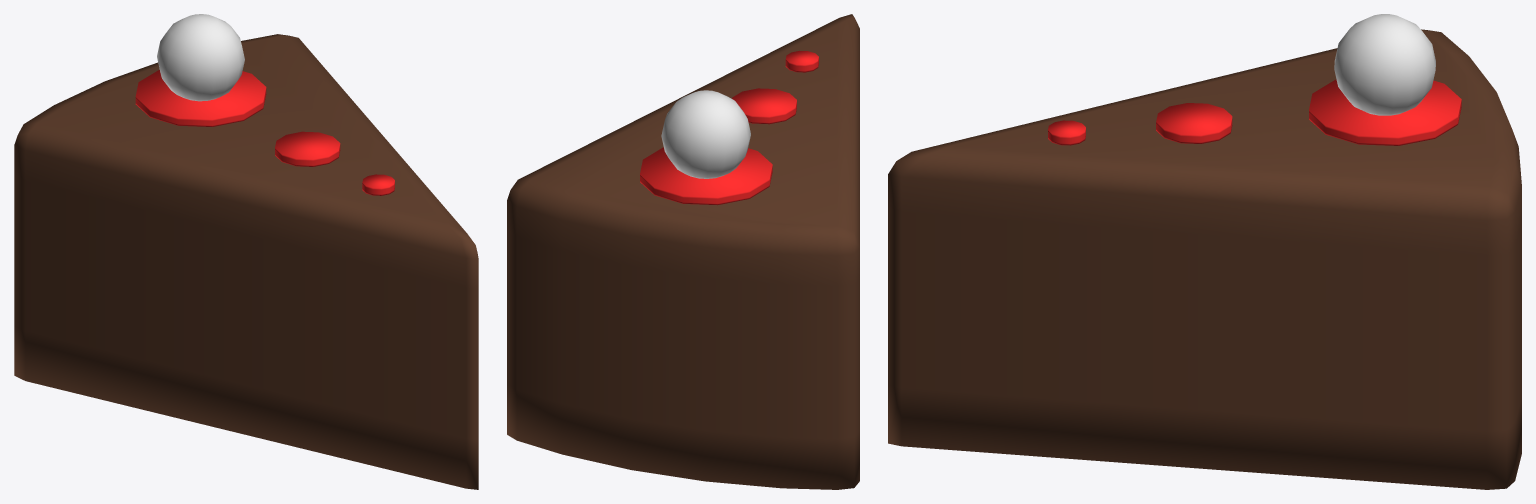
The model's file is cake 1.FBX.
3 views of the same model, side by side, from view 1: azimuth 30°, elevation 25°; view 2: azimuth 150°, elevation 25°; view 3: azimuth 270°, elevation 25° (orthographic). The views are drawn at different scales.
Parts seen in each view (by area): view 1: CakeSlice; view 2: CakeSlice; view 3: CakeSlice.
Boxes of the visible parts, left/top/right/bottom form: CakeSlice: left=14, top=14, right=478, bottom=489; CakeSlice: left=507, top=14, right=859, bottom=489; CakeSlice: left=888, top=14, right=1521, bottom=489.
Bounding box in the file's own units: 0.6527 × 0.6624 × 0.9809.
